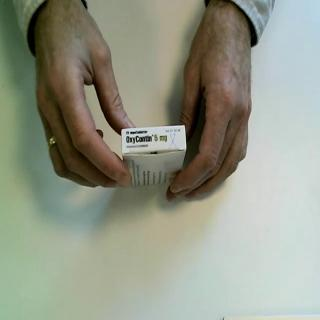oxycontin5mg: (121, 124, 189, 190)
